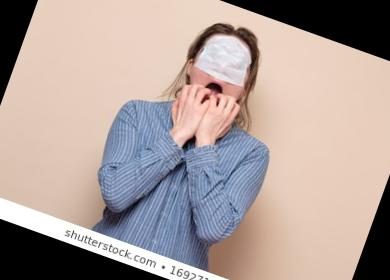mask_weared_incorrect: (182, 39, 254, 117)
